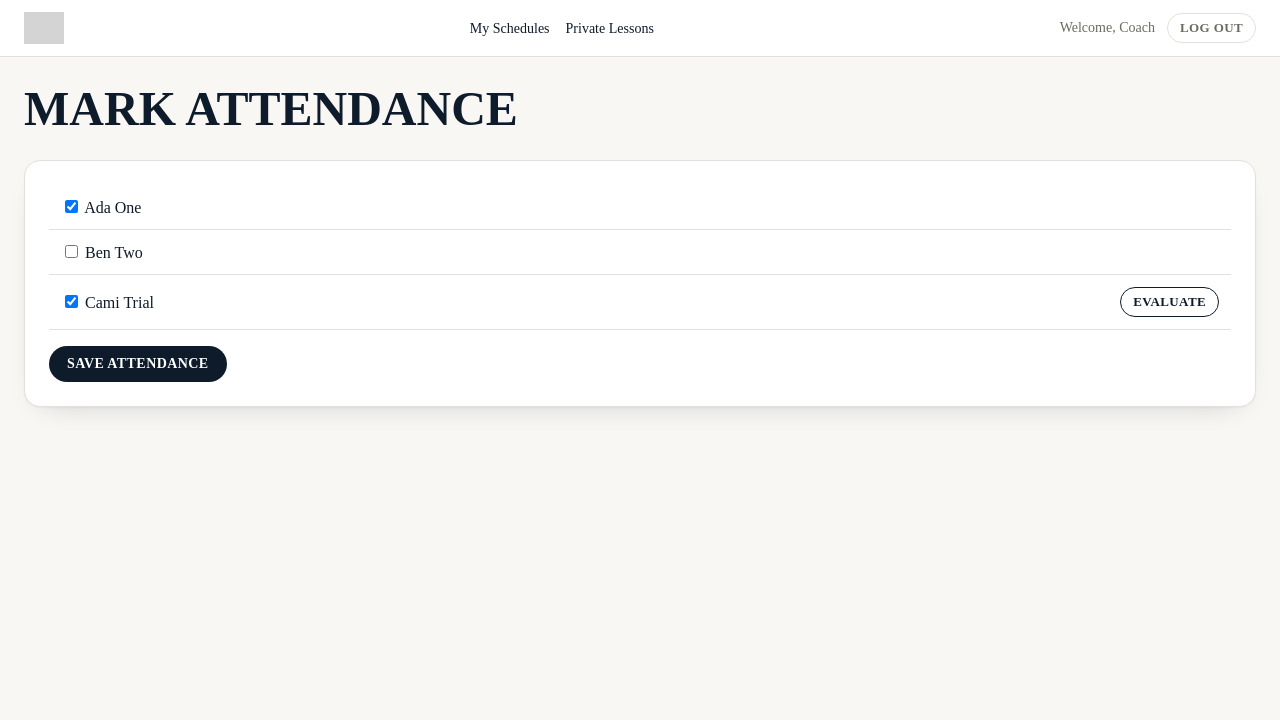
AttendancePage › offers Evaluate only for a trial student already marked present, and submits the evaluation
Expected: the text "Ada One" is shown, 61,199 -> 141,216
Click the button "Evaluate" at coordinates (1170, 302), box 1120,287 -> 1219,317
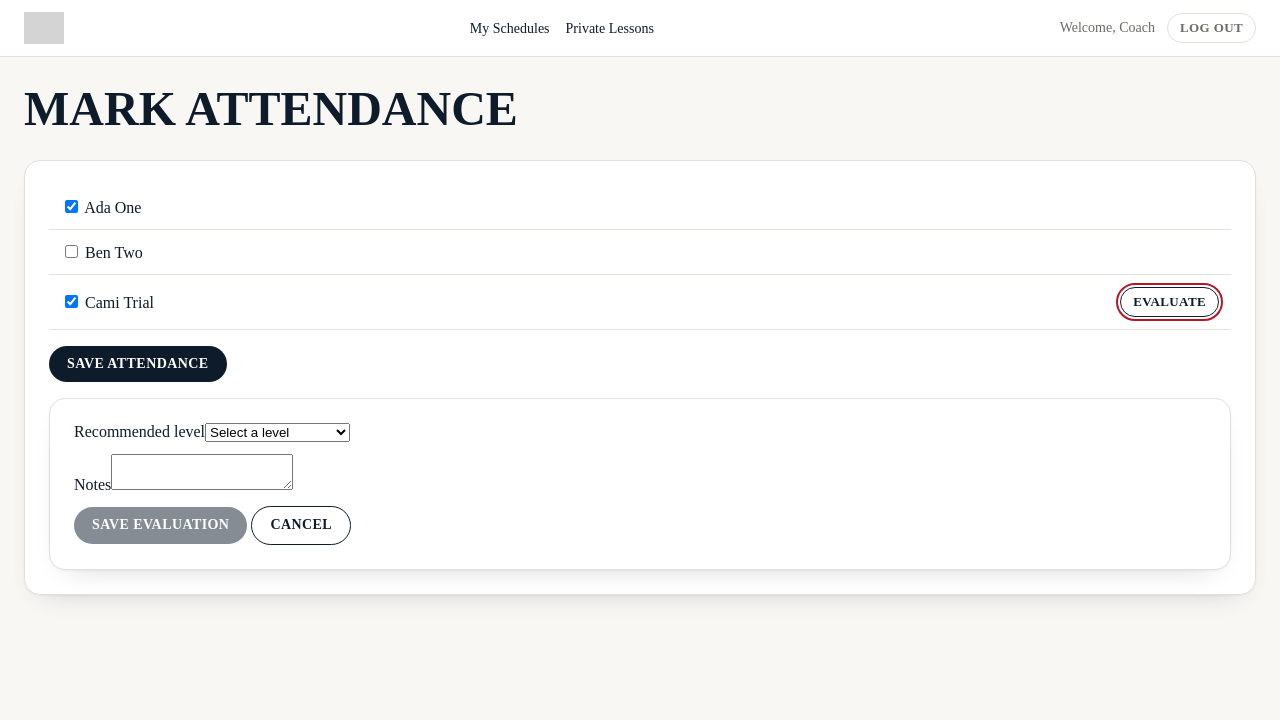
Select "Beginner Above 10Y" in the dropdown labelled "Recommended level" at coordinates (278, 433), box 205,423 -> 350,442
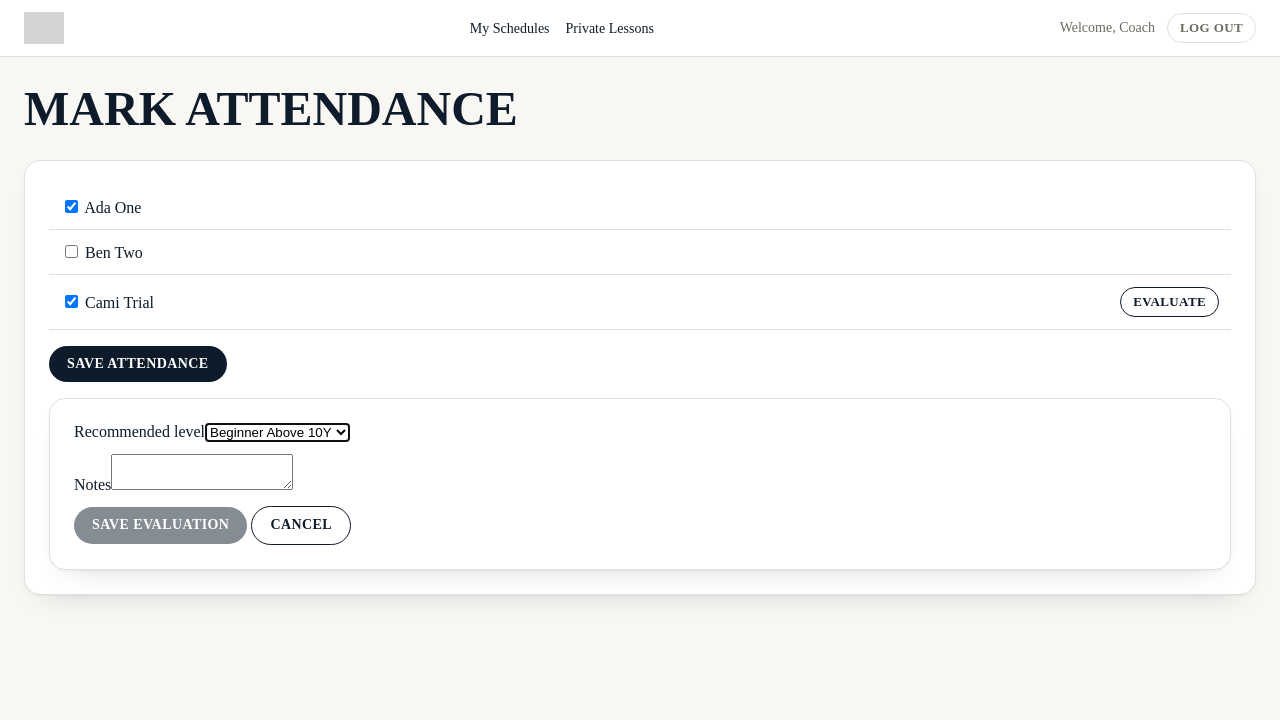
Type "Great trial." into the text box named "evaluation notes" at coordinates (202, 472), box 111,454 -> 293,490
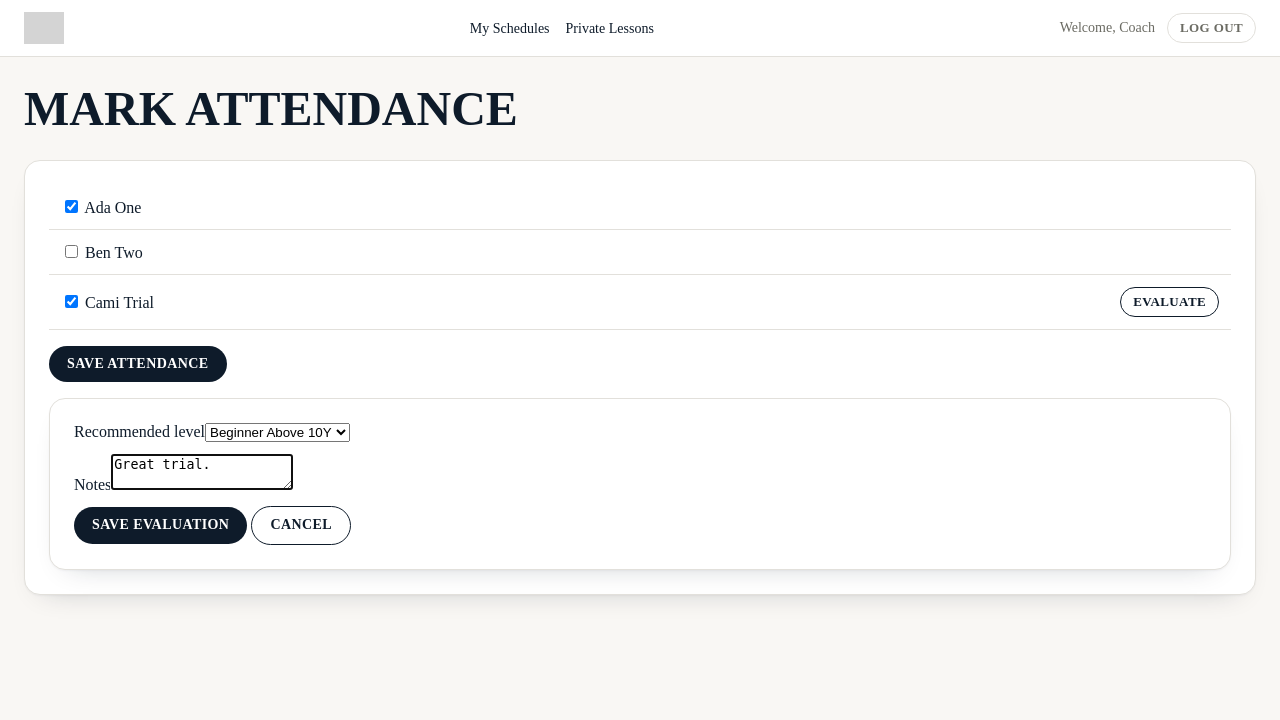
Click the button "Save Evaluation" at coordinates (161, 526), box 74,507 -> 247,544
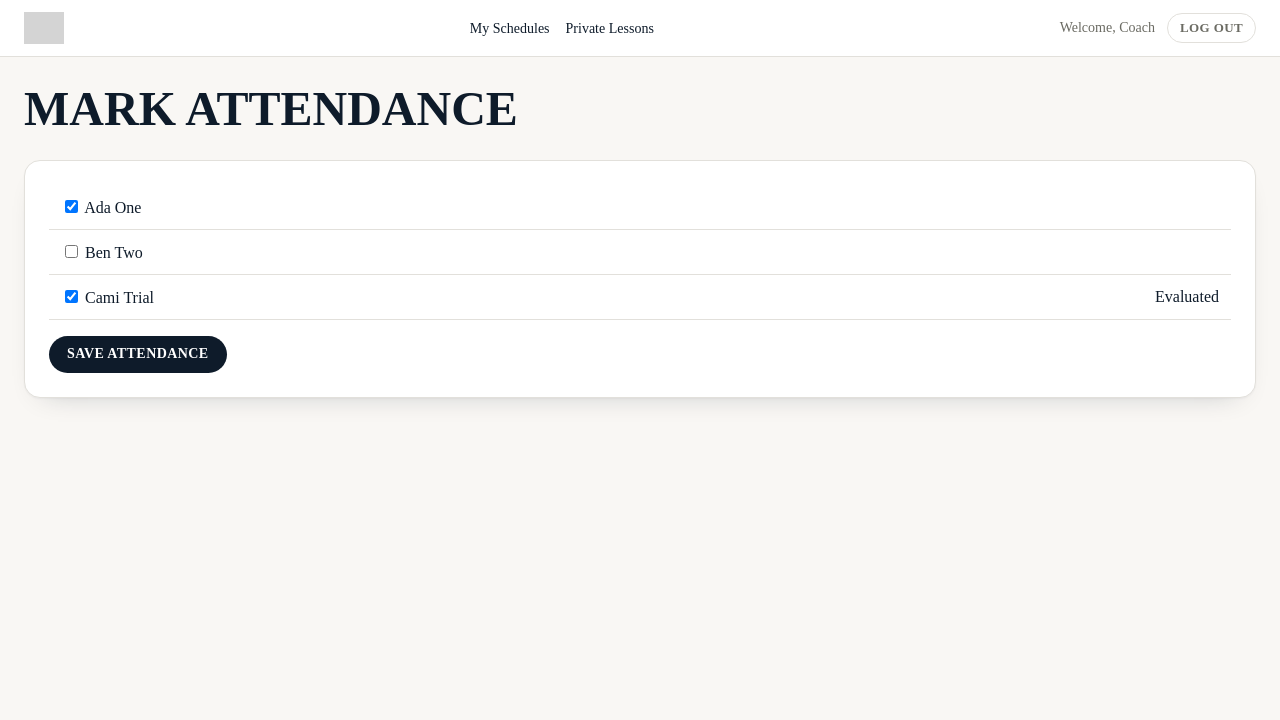
Now the text "Evaluated" is shown, box 1155,288 -> 1219,305
